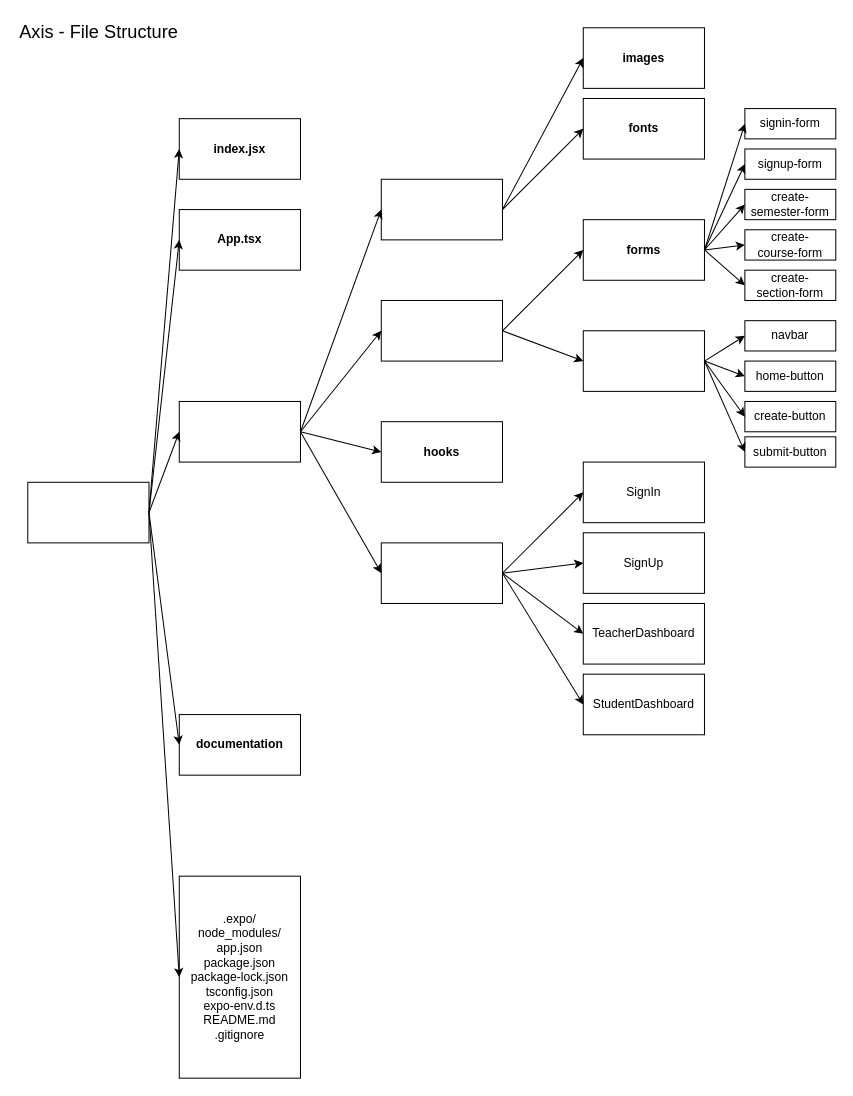
Some shapes in this 853 by 1096 pixel diagram are drawn without their labels. Each missing label, with the box of its shape:
assets: (380, 178, 502, 240)
Axis (Root Directory): (27, 481, 149, 543)
code: (178, 400, 300, 462)
components: (380, 299, 502, 361)
screens: (380, 542, 502, 603)
ui: (582, 330, 704, 391)
